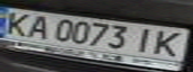0: (48, 16, 75, 44), (69, 18, 93, 46)
3: (106, 21, 133, 52)
7: (87, 20, 112, 50)
A: (21, 13, 54, 42)
I: (127, 25, 160, 54)
K: (148, 28, 190, 57), (0, 8, 36, 37)
